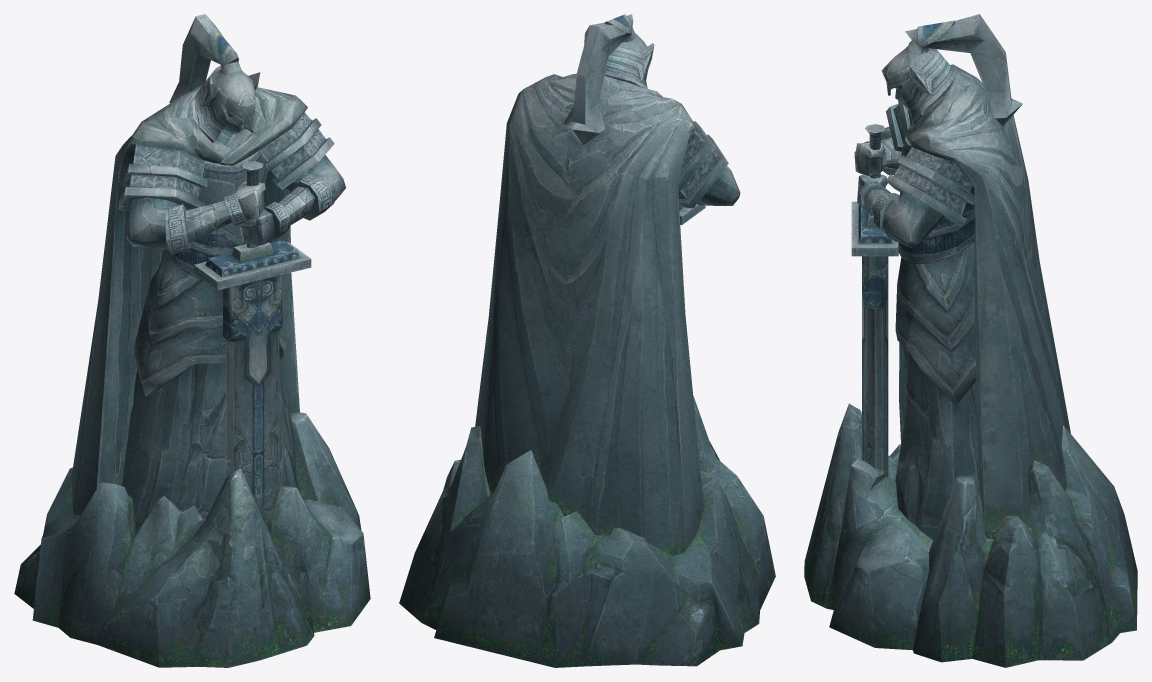
3 views of the same model, side by side, from view 1: azimuth 30°, elevation 25°; view 2: azimuth 150°, elevation 25°; view 3: azimuth 270°, elevation 25° (orthographic).
Visible parts, largest first — view 1: MC_M_10008; view 2: MC_M_10008; view 3: MC_M_10008.
Part boxes in pixels (x1,y1,x2,y2): MC_M_10008: [14, 14, 370, 667]; MC_M_10008: [399, 14, 775, 667]; MC_M_10008: [804, 14, 1137, 667].
Size of the model in its own units: 1.92 by 3.32 by 1.75.
